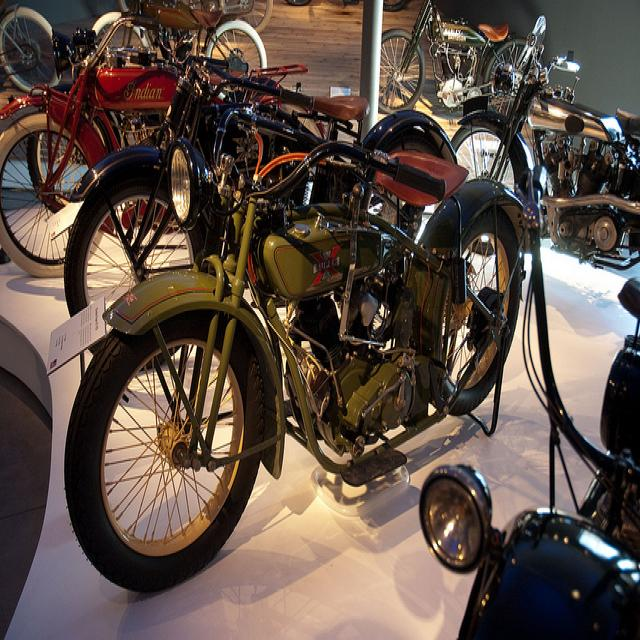motor: (63, 109, 527, 595), (63, 20, 460, 319), (416, 276, 640, 632), (0, 8, 245, 277), (452, 14, 640, 273), (378, 0, 529, 117), (116, 83, 173, 150)
